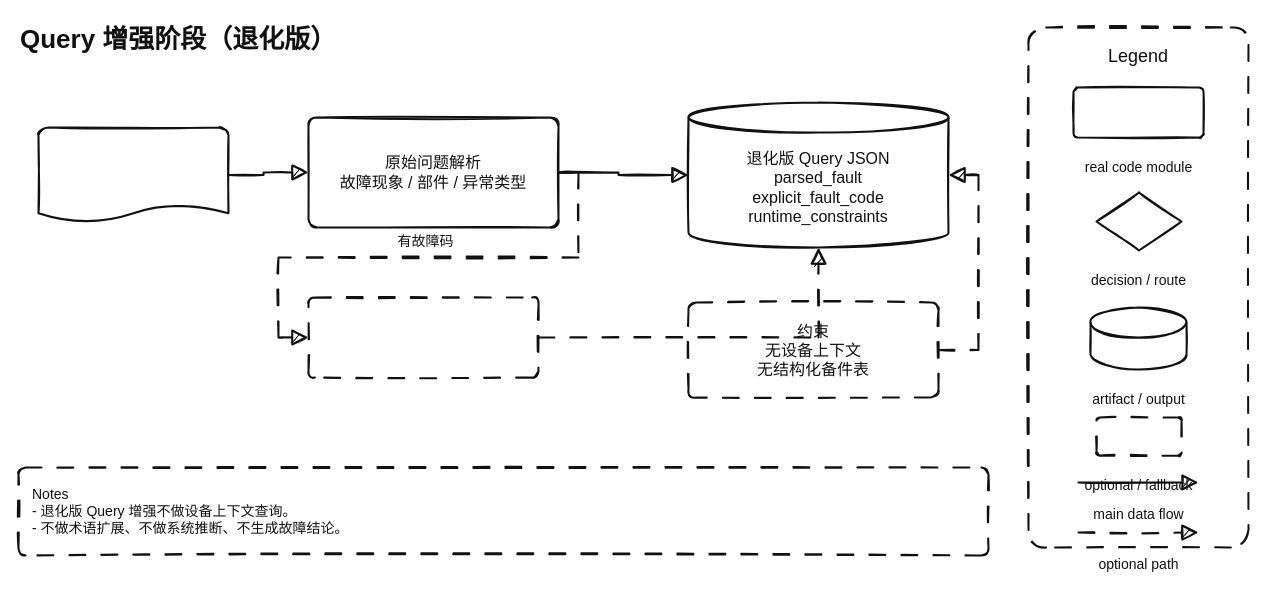
Image size: 1266x590. Some labels were removed from this diagram. The box of each missing label's shape, as (x1, y1, x2, y2) in pixels:
显式故障码抽取 仅规则匹配: (307, 296, 539, 378)
用户原始问题 无设备/机型信息: (37, 126, 229, 223)
